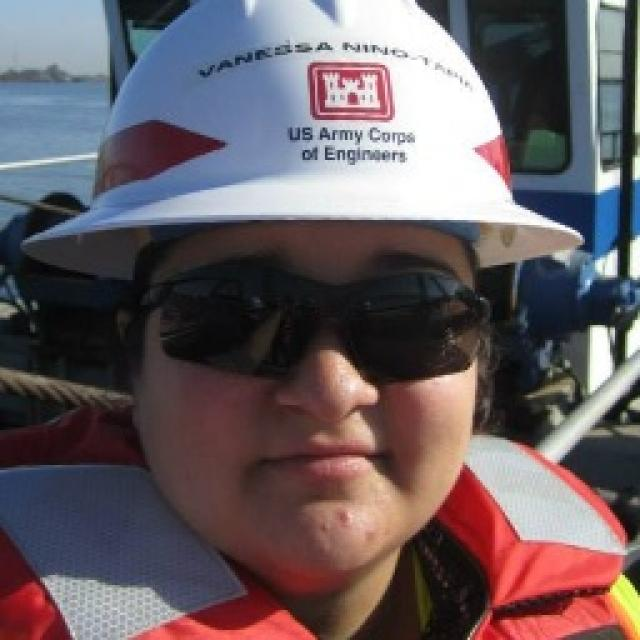glasses: (117, 256, 510, 400)
